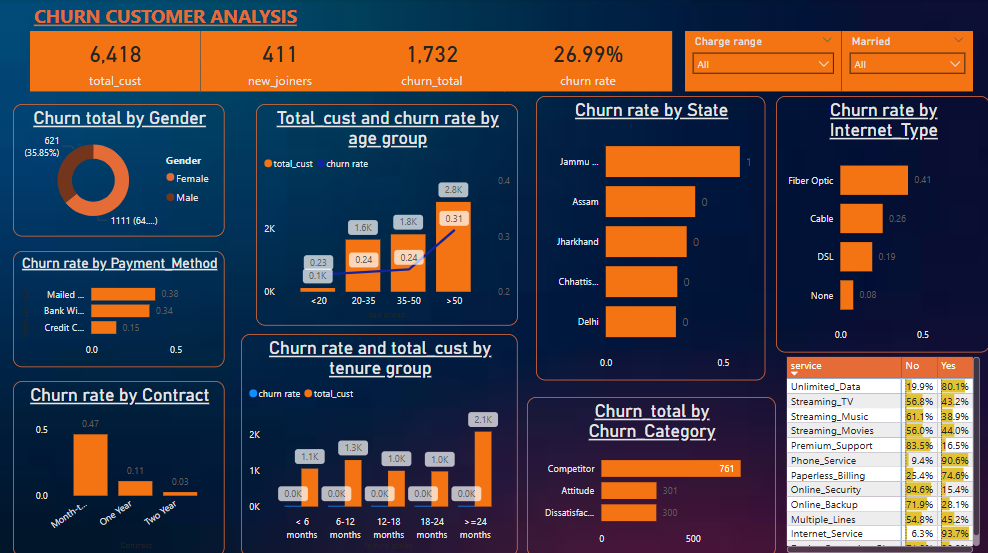

Layout of this report page (visuals, bound fields, positions):
{"tool":"powerbi","page":{"name":"churn analysis","canvas":[1280,720],"ordinal":0},"visuals":[{"type":"card","fields":{"Values":["measuring.total_cust"]},"box":[41.9,41.9,219.8,78.1],"z":0},{"type":"card","fields":{"Values":["measuring.new_joiners"]},"box":[261.7,41.9,203.9,78.1],"z":1000},{"type":"card","fields":{"Values":["measuring.churn_total"]},"box":[465.5,41.9,188,78.1],"z":2000},{"type":"card","fields":{"Values":["measuring.churn rate","select"]},"box":[653.5,41.9,216.9,78.1],"z":3000},{"type":"donutChart","title":"Churn total by Gender","fields":{"Category":["prod_Churn.Gender"],"Y":["measuring.churn_total"]},"box":[18.8,135.9,273.3,170.6],"z":4000},{"type":"lineStackedColumnComboChart","title":"Total_cust and churn rate by age group","fields":{"Category":["age_grp.age group"],"Y":["measuring.total_cust"],"Y2":["measuring.churn rate"]},"box":[332.5,135.9,338.3,286.3],"z":5000},{"type":"clusteredBarChart","title":"Churn rate by Payment_Method","fields":{"Category":["prod_Churn.Payment_Method"],"Y":["measuring.churn rate"]},"box":[18.8,325.3,273.3,150.4],"z":6000},{"type":"columnChart","title":"Churn rate by Contract","fields":{"Category":["prod_Churn.Contract"],"Y":["measuring.churn rate"]},"box":[18.8,493,273.3,227],"z":7000},{"type":"lineClusteredColumnComboChart","title":"Churn rate and total_cust by tenure group","fields":{"Category":["tenure_grp.tenure group"],"Y":["measuring.churn rate","measuring.total_cust"]},"box":[313.7,432.3,357.1,287.7],"z":8000},{"type":"clusteredBarChart","title":"Churn rate by State","fields":{"Category":["prod_Churn.State"],"Y":["measuring.churn rate"]},"box":[694,125.8,296.4,367.2],"z":9000},{"type":"barChart","title":"Churn_total by Churn_Category","fields":{"Y":["measuring.churn_total"],"Category":["prod_Churn.Churn_Category"]},"box":[682.4,513.3,321,206.7],"z":10000},{"type":"clusteredBarChart","title":"Churn rate by Internet_Type","fields":{"Category":["prod_Churn.Internet_Type"],"Y":["measuring.churn rate"]},"box":[1003.4,125.8,276.1,331.1],"z":11000},{"type":"pivotTable","title":"Churn Service Type","fields":{"Rows":["service.service"],"Columns":["service.condition"],"Values":["Sum(service.staus of churn)"]},"box":[1012.9,457.1,258.6,262.9],"z":12000},{"type":"slicer","fields":{"Values":["service.monthly chargeStatus"]},"box":[886.3,41.9,202.4,78.1],"z":13000},{"type":"slicer","fields":{"Values":["service.Married"]},"box":[1088.7,41.9,169.2,78.1],"z":14000},{"type":"textbox","box":[41.9,0,491.6,41.9],"z":15000}]}

Visuals, with their boxes in screenshot pixels (x1, y1, x2, y2), scaled from the page's 1280x720 canvas onto the 988x553 screenshot:
card - measuring.total_cust: box=[32, 32, 202, 92]
card - measuring.new_joiners: box=[202, 32, 359, 92]
card - measuring.churn_total: box=[359, 32, 504, 92]
card - measuring.churn rate x select: box=[504, 32, 672, 92]
"Churn total by Gender" donutChart: box=[15, 104, 225, 235]
"Total_cust and churn rate by age group" lineStackedColumnComboChart: box=[257, 104, 518, 324]
"Churn rate by Payment_Method" clusteredBarChart: box=[15, 250, 225, 365]
"Churn rate by Contract" columnChart: box=[15, 379, 225, 552]
"Churn rate and total_cust by tenure group" lineClusteredColumnComboChart: box=[242, 332, 518, 552]
"Churn rate by State" clusteredBarChart: box=[536, 97, 764, 379]
"Churn_total by Churn_Category" barChart: box=[527, 394, 774, 552]
"Churn rate by Internet_Type" clusteredBarChart: box=[774, 97, 987, 351]
"Churn Service Type" pivotTable: box=[782, 351, 981, 552]
slicer - service.monthly chargeStatus: box=[684, 32, 840, 92]
slicer - service.Married: box=[840, 32, 971, 92]
textbox: box=[32, 0, 412, 32]
